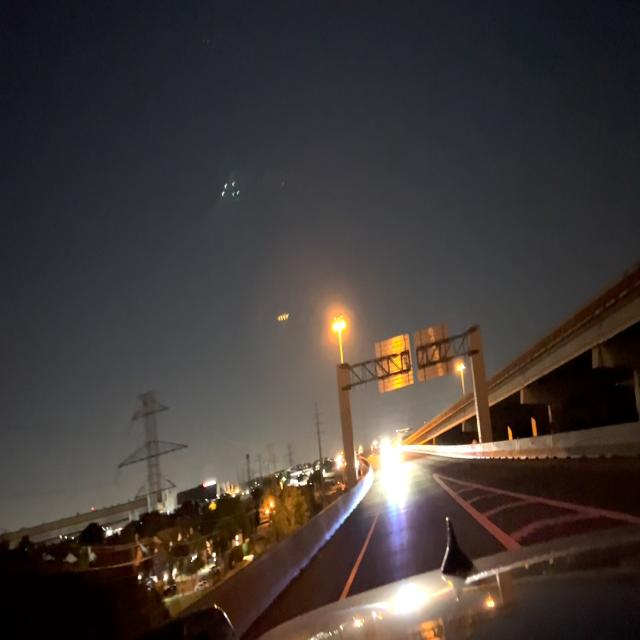back-of-sign: (415, 317, 456, 386), (376, 331, 413, 394)
